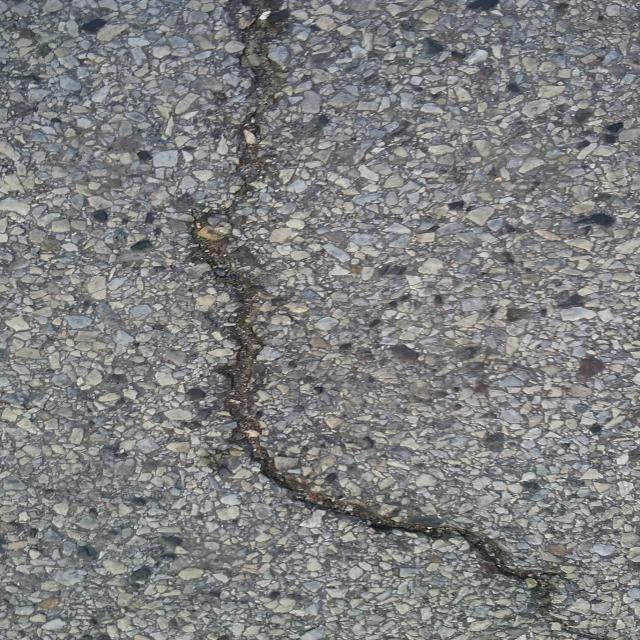Crack: (186, 0, 603, 640)
